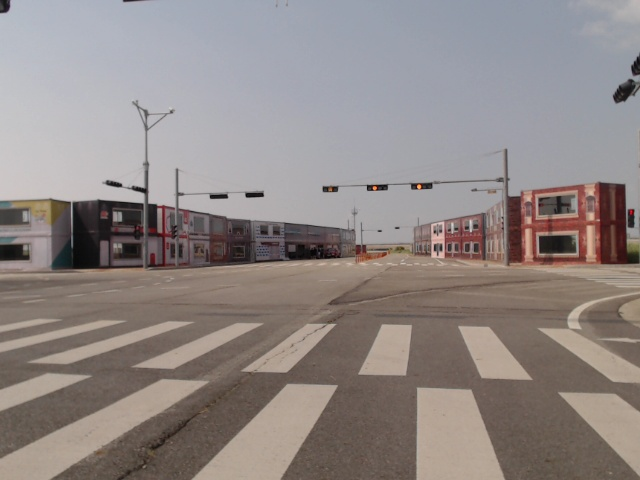orange_4: (364, 182, 390, 192), (409, 181, 432, 191)
